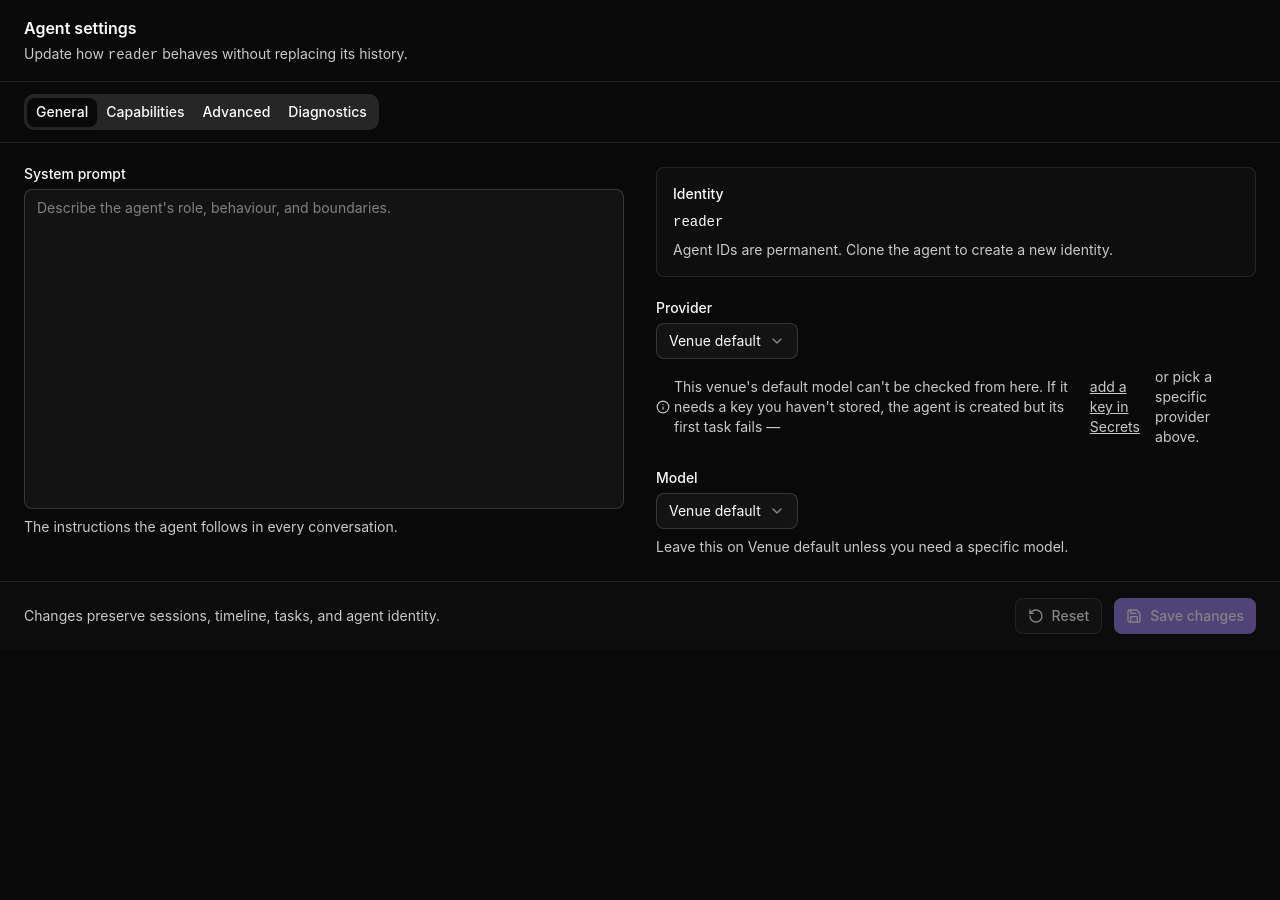
Test case: AgentSettings — capabilities (caps) editor › renders an existing caps set as enabled with its rows populated
What coordinates should you click on to do the following:
click the tab "Capabilities"
I would click on:
 (145, 112)
Its box is [97,98,194,126].
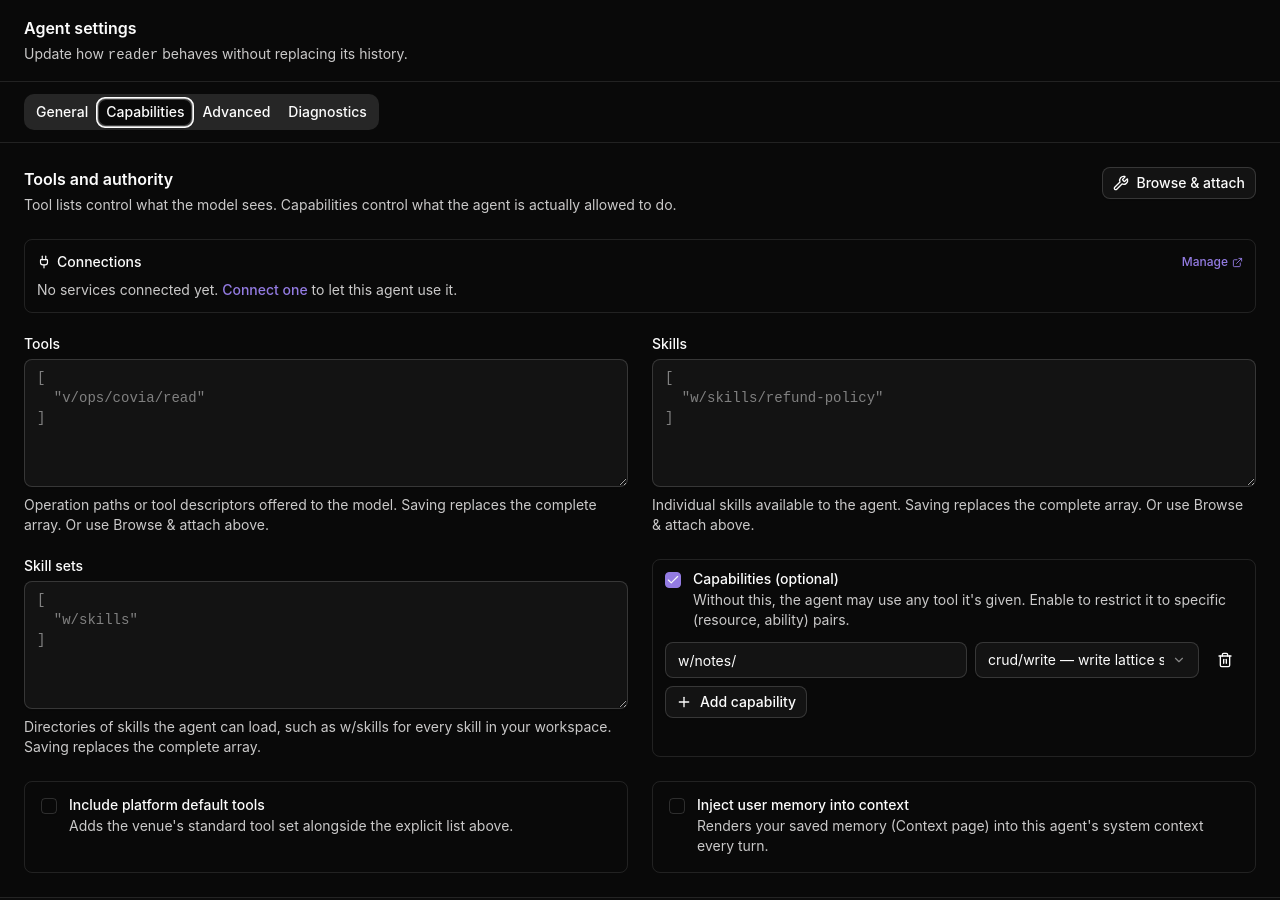
Check: the checkbox named "capabilities (optional)" next to "Capabilities (optional)" is checked, box [665,572,681,588]
Check: the field with test id "cap-with-0" holds "w/notes/", box [665,642,967,678]
